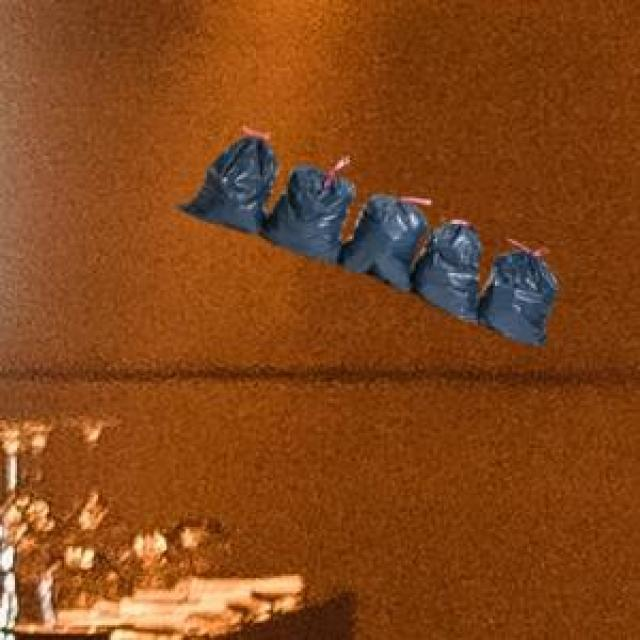miscellaneous trash: (171, 132, 555, 341)
